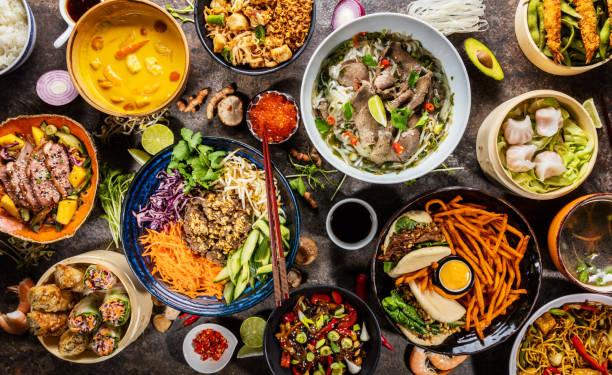Braised Crucian Carp: (120, 136, 294, 315), (371, 186, 539, 356), (300, 12, 466, 184), (66, 1, 189, 118), (33, 250, 154, 362), (1, 113, 102, 241), (477, 90, 595, 199), (260, 285, 379, 373), (192, 0, 313, 75)
